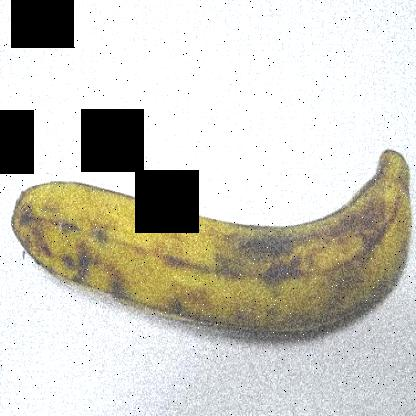overripe: (6, 132, 415, 358)
